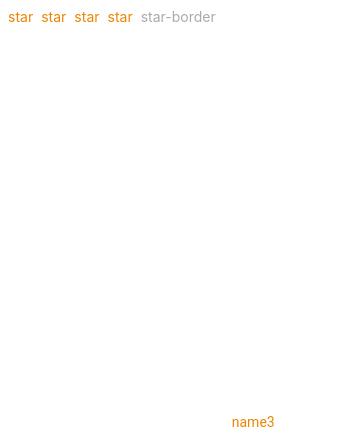
WmRating › displays caption correctly when showcaptions is true
Expected: the text "name3" is shown, [232,414,275,430]
Click the 3rd button "star" at (91, 16), box [74,8,108,25]
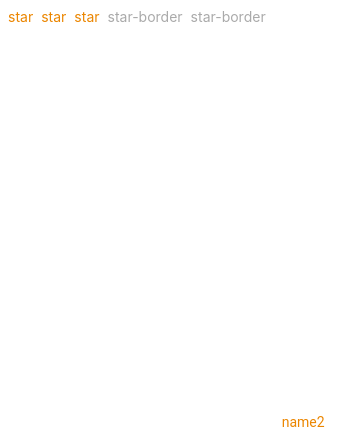
Expected: the text "name2" is shown, [282,414,325,430]
